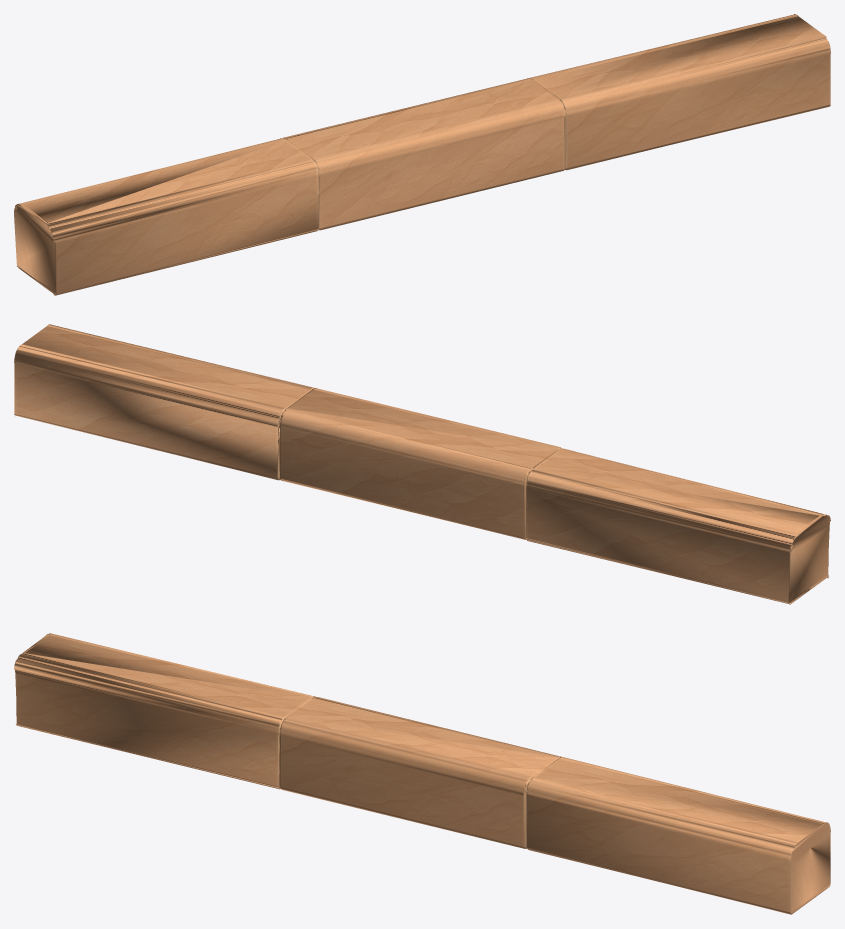
Rendered from kerb.glb.
3 views of the same model, one above another, from view 1: azimuth 30°, elevation 25°; view 2: azimuth 150°, elevation 25°; view 3: azimuth 330°, elevation 25° (orthographic).
Size of the model in its own units: 0.9536 by 0.0811 by 0.0855.
1 material, 1 textured.
